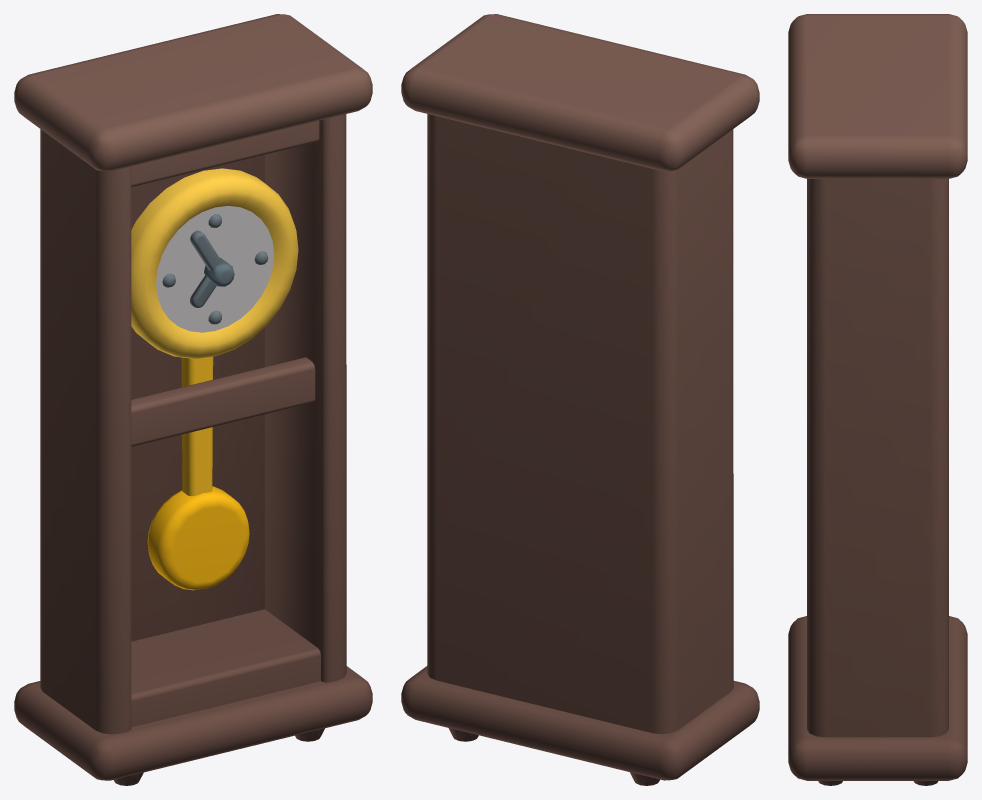
File: Clock_03.glb
3 views of the same model, side by side, from view 1: azimuth 30°, elevation 25°; view 2: azimuth 150°, elevation 25°; view 3: azimuth 270°, elevation 25° (orthographic).
Parts seen in each view (by area): view 1: Clock_03; view 2: Clock_03; view 3: Clock_03.
Part boxes in pixels (<box>): Clock_03: <box>14,14,372,785</box>; Clock_03: <box>401,14,759,785</box>; Clock_03: <box>788,14,967,785</box>.
Size of the model in its own units: 0.68 by 1.55 by 0.38.
Materials: 1 (1 with a texture image).
